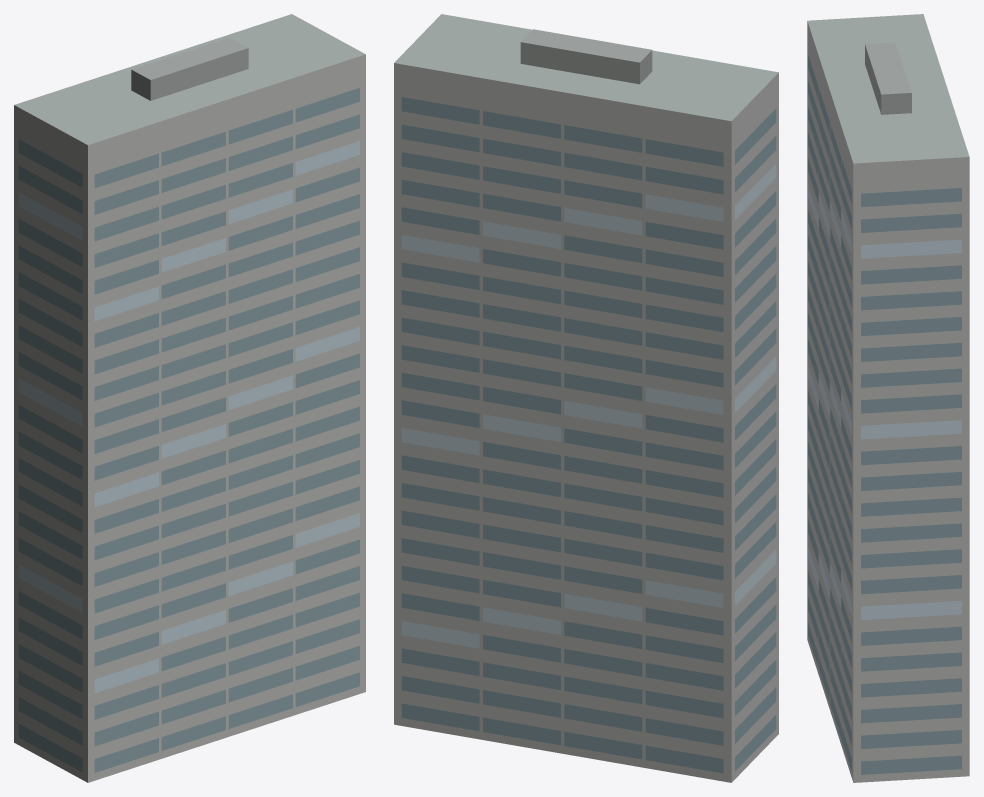
The model's file is fallback-olympic-athletes-village-319.glb.
3 views of the same model, side by side, from view 1: azimuth 30°, elevation 25°; view 2: azimuth 150°, elevation 25°; view 3: azimuth 270°, elevation 25° (orthographic). The views are drawn at different scales.
Parts seen in each view (by area): view 1: fallback-olympic-athletes-village-319; view 2: fallback-olympic-athletes-village-319; view 3: fallback-olympic-athletes-village-319.
Part boxes in pixels (box(x1,y1,x2,y2)): fallback-olympic-athletes-village-319: box(14, 14, 365, 782); fallback-olympic-athletes-village-319: box(394, 14, 778, 782); fallback-olympic-athletes-village-319: box(807, 14, 969, 782).
Bounding box in the file's own units: 37.92 × 75.6 × 17.38.
